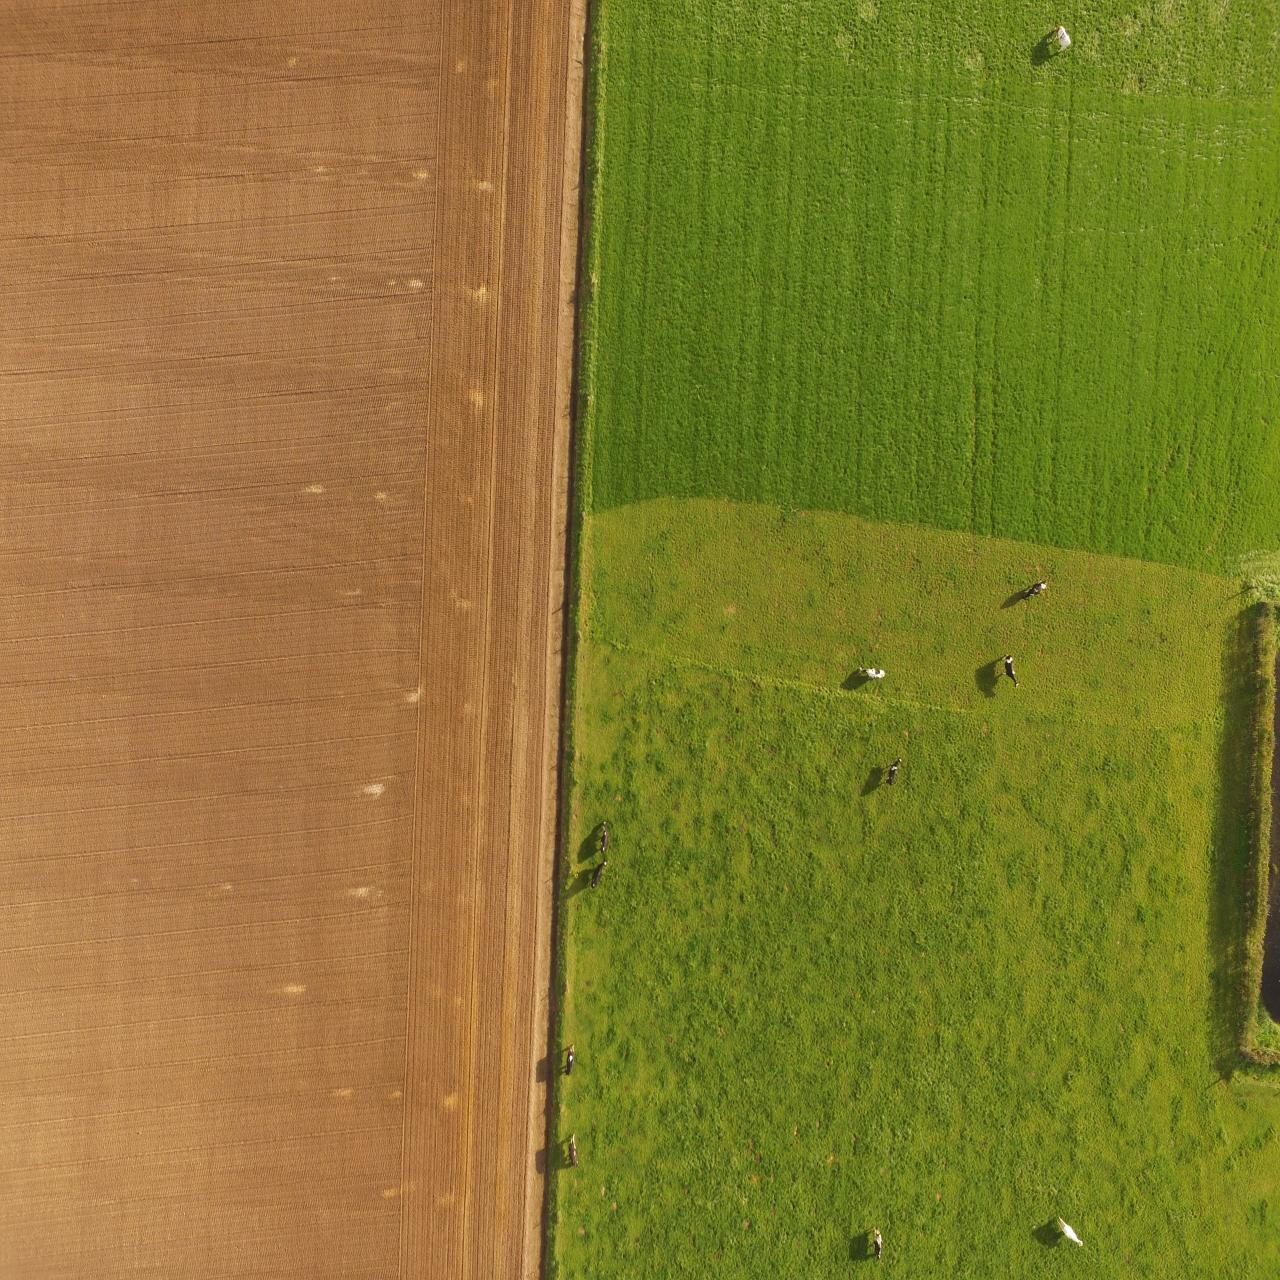cow: (1056, 1214, 1083, 1248), (1019, 576, 1049, 602), (1051, 22, 1073, 59), (1001, 653, 1017, 692), (885, 756, 904, 789), (591, 858, 608, 887), (858, 665, 888, 681), (598, 817, 610, 858), (871, 1225, 884, 1261), (567, 1132, 579, 1167), (564, 1043, 576, 1076)
